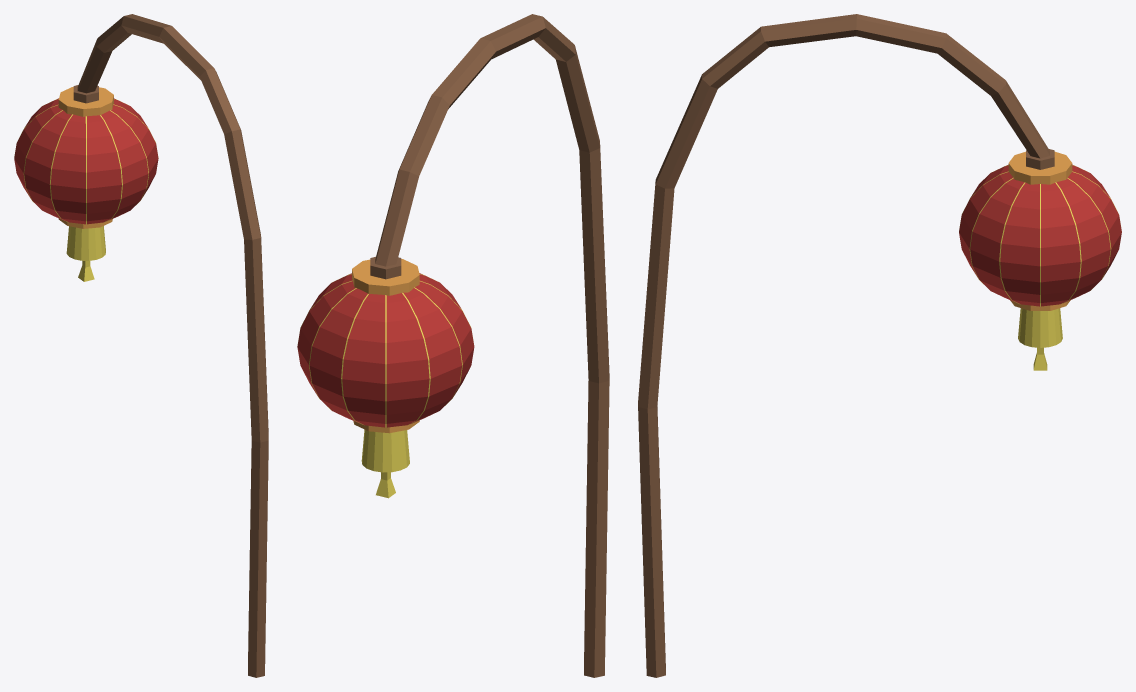
Rendered from Asia_Light.fbx.
3 renders of one model, left to right at view 1: azimuth 30°, elevation 25°; view 2: azimuth 150°, elevation 25°; view 3: azimuth 270°, elevation 25°, orthographic. The views are drawn at different scales.
Parts seen in each view (by area): view 1: Cube.008; view 2: Cube.008; view 3: Cube.008.
Part boxes in pixels (box(x1,y1,x2,y2)): Cube.008: box(14, 14, 268, 677); Cube.008: box(297, 14, 609, 677); Cube.008: box(638, 14, 1121, 677).
Bounding box in the file's own units: 59.85 × 266 × 178.
